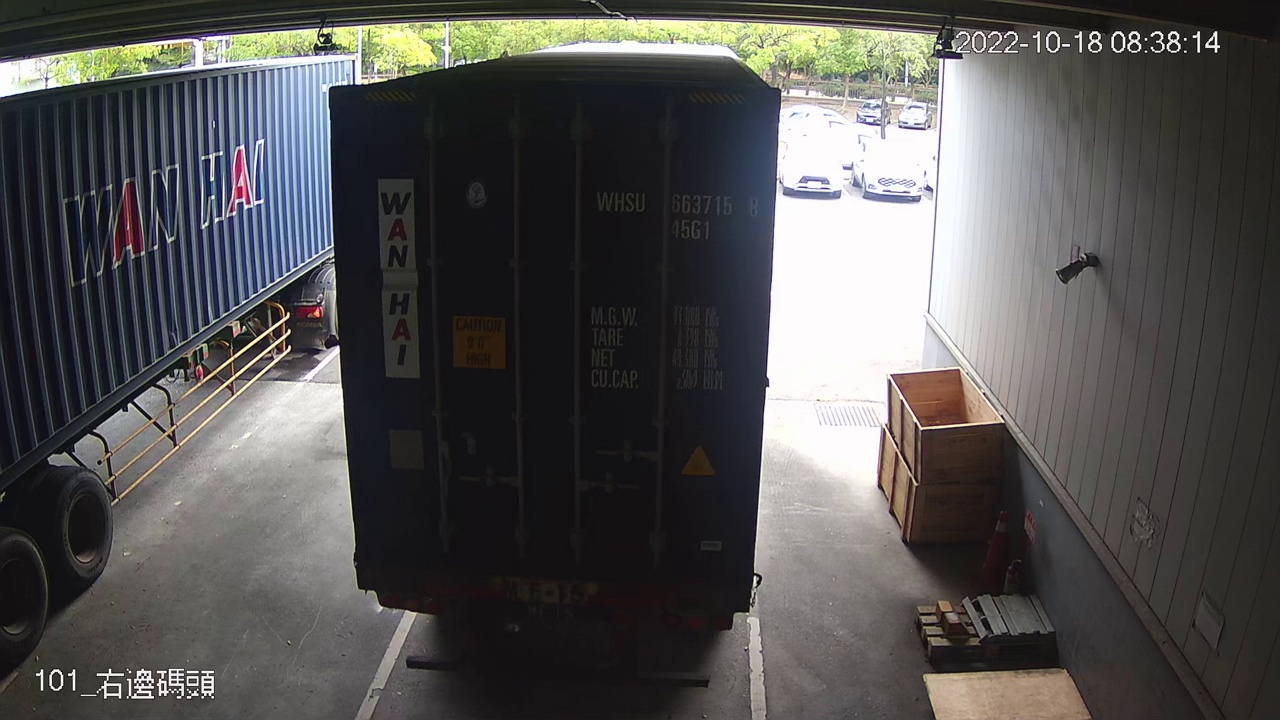container: (588, 181, 765, 248)
